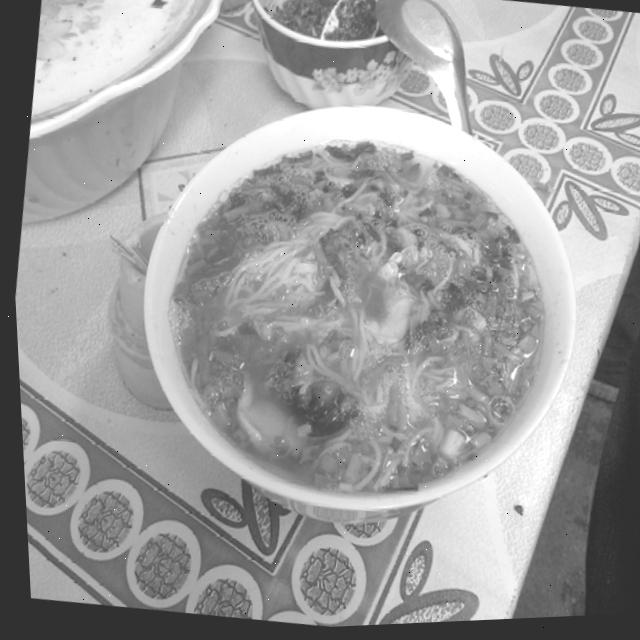面条主食: (73, 33, 623, 611)
